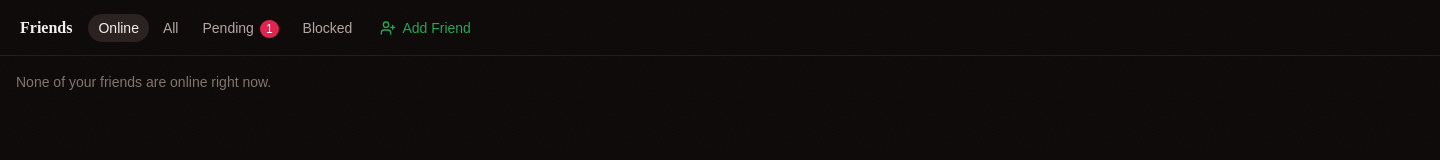
Scenario: FriendsPage › offers accept and reject for an incoming request
Click the button "Pending1" at (241, 28), box [192,14,289,42]
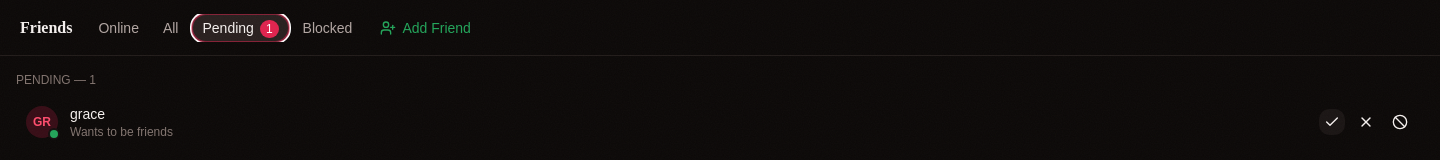
Check: the button named "Accept grace" is shown, box [1318,108,1346,136]
Check: the button named "Reject request from grace" is shown, box [1352,108,1380,136]
